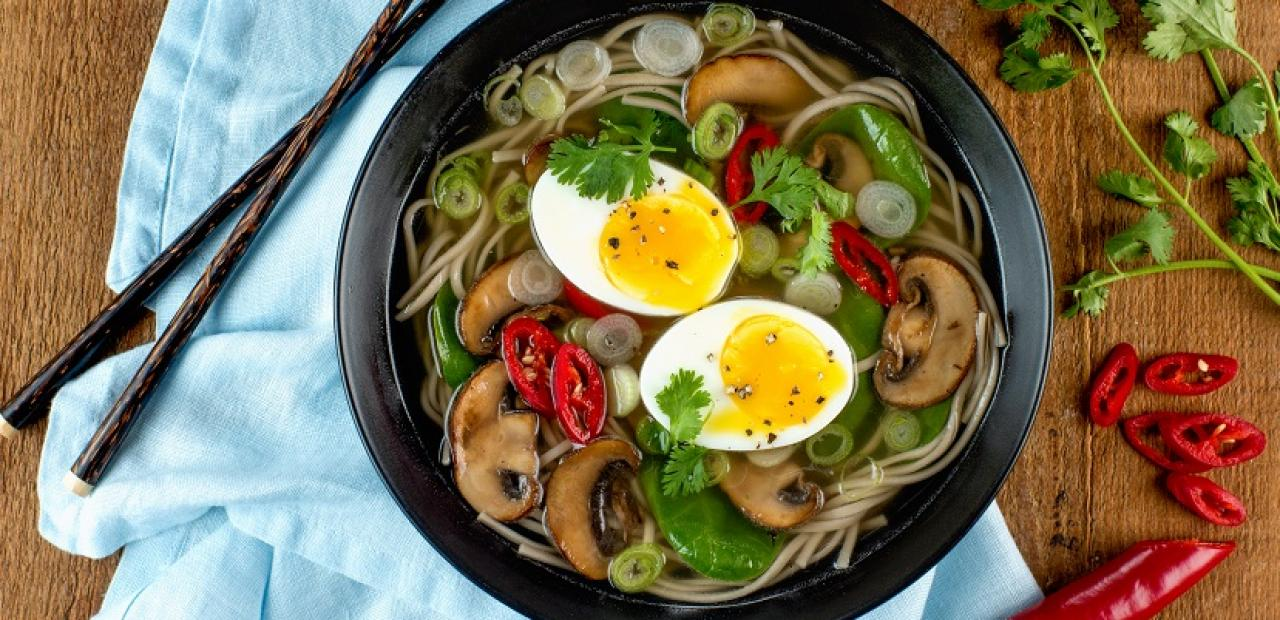Soba: (391, 21, 992, 620)
